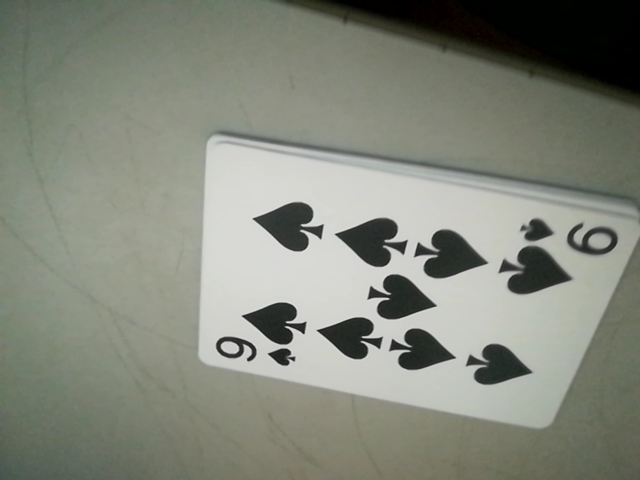ht 9: (512, 210, 618, 255), (207, 334, 304, 372)
